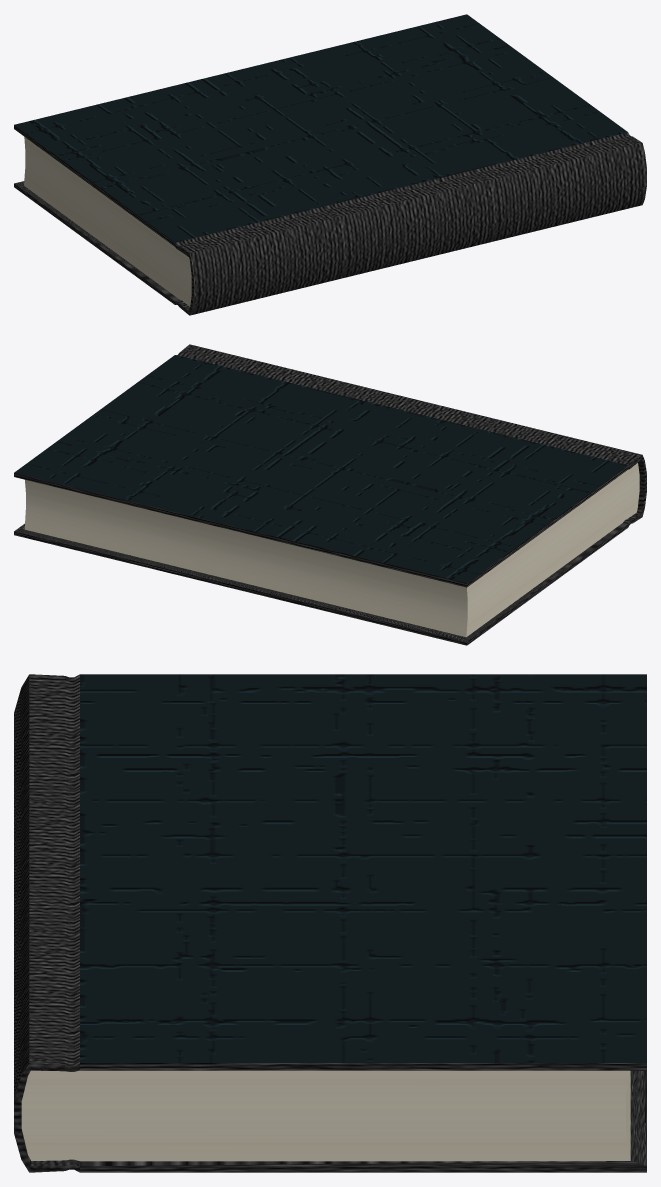
The model's file is book1withtexture.fbx.
The picture shows the model from 3 angles, top to bottom: view 1: azimuth 30°, elevation 25°; view 2: azimuth 150°, elevation 25°; view 3: azimuth 270°, elevation 25°; orthographic projection. The views are drawn at different scales.
Visible parts, largest first — view 1: pCube1; view 2: pCube1; view 3: pCube1.
Part boxes in pixels (box(x1,y1,x2,y2)): pCube1: box(14, 14, 646, 315); pCube1: box(14, 344, 646, 645); pCube1: box(14, 674, 646, 1172).
Bounding box in the file's own units: 10.27 × 1.35 × 7.06.
4 materials, 3 textured.
